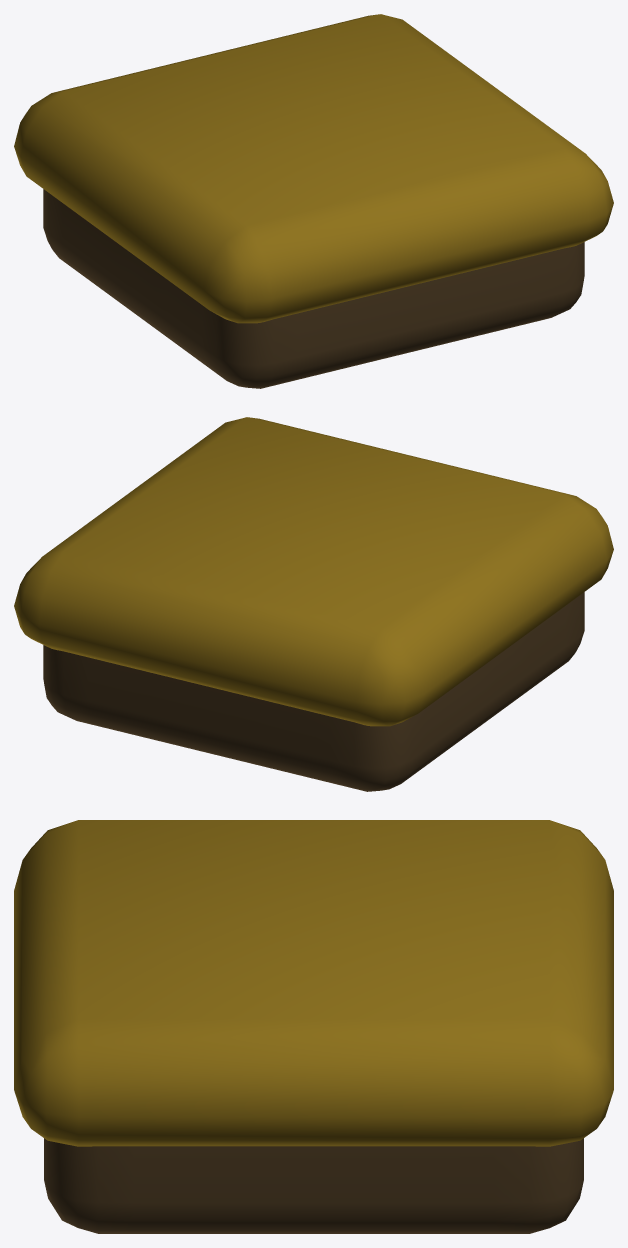
File: Plateforme_Carre_fly_m.fbx
3 views of the same model, one above another, from view 1: azimuth 30°, elevation 25°; view 2: azimuth 150°, elevation 25°; view 3: azimuth 270°, elevation 25° (orthographic). The views are drawn at different scales.
Parts seen in each view (by area): view 1: Cube.012; view 2: Cube.012; view 3: Cube.012.
Boxes of the visible parts, box(x1,y1,x2,y2) form: Cube.012: box(14, 14, 613, 388); Cube.012: box(14, 417, 613, 791); Cube.012: box(14, 820, 613, 1233).
Size of the model in its own units: 499 by 200 by 499.
